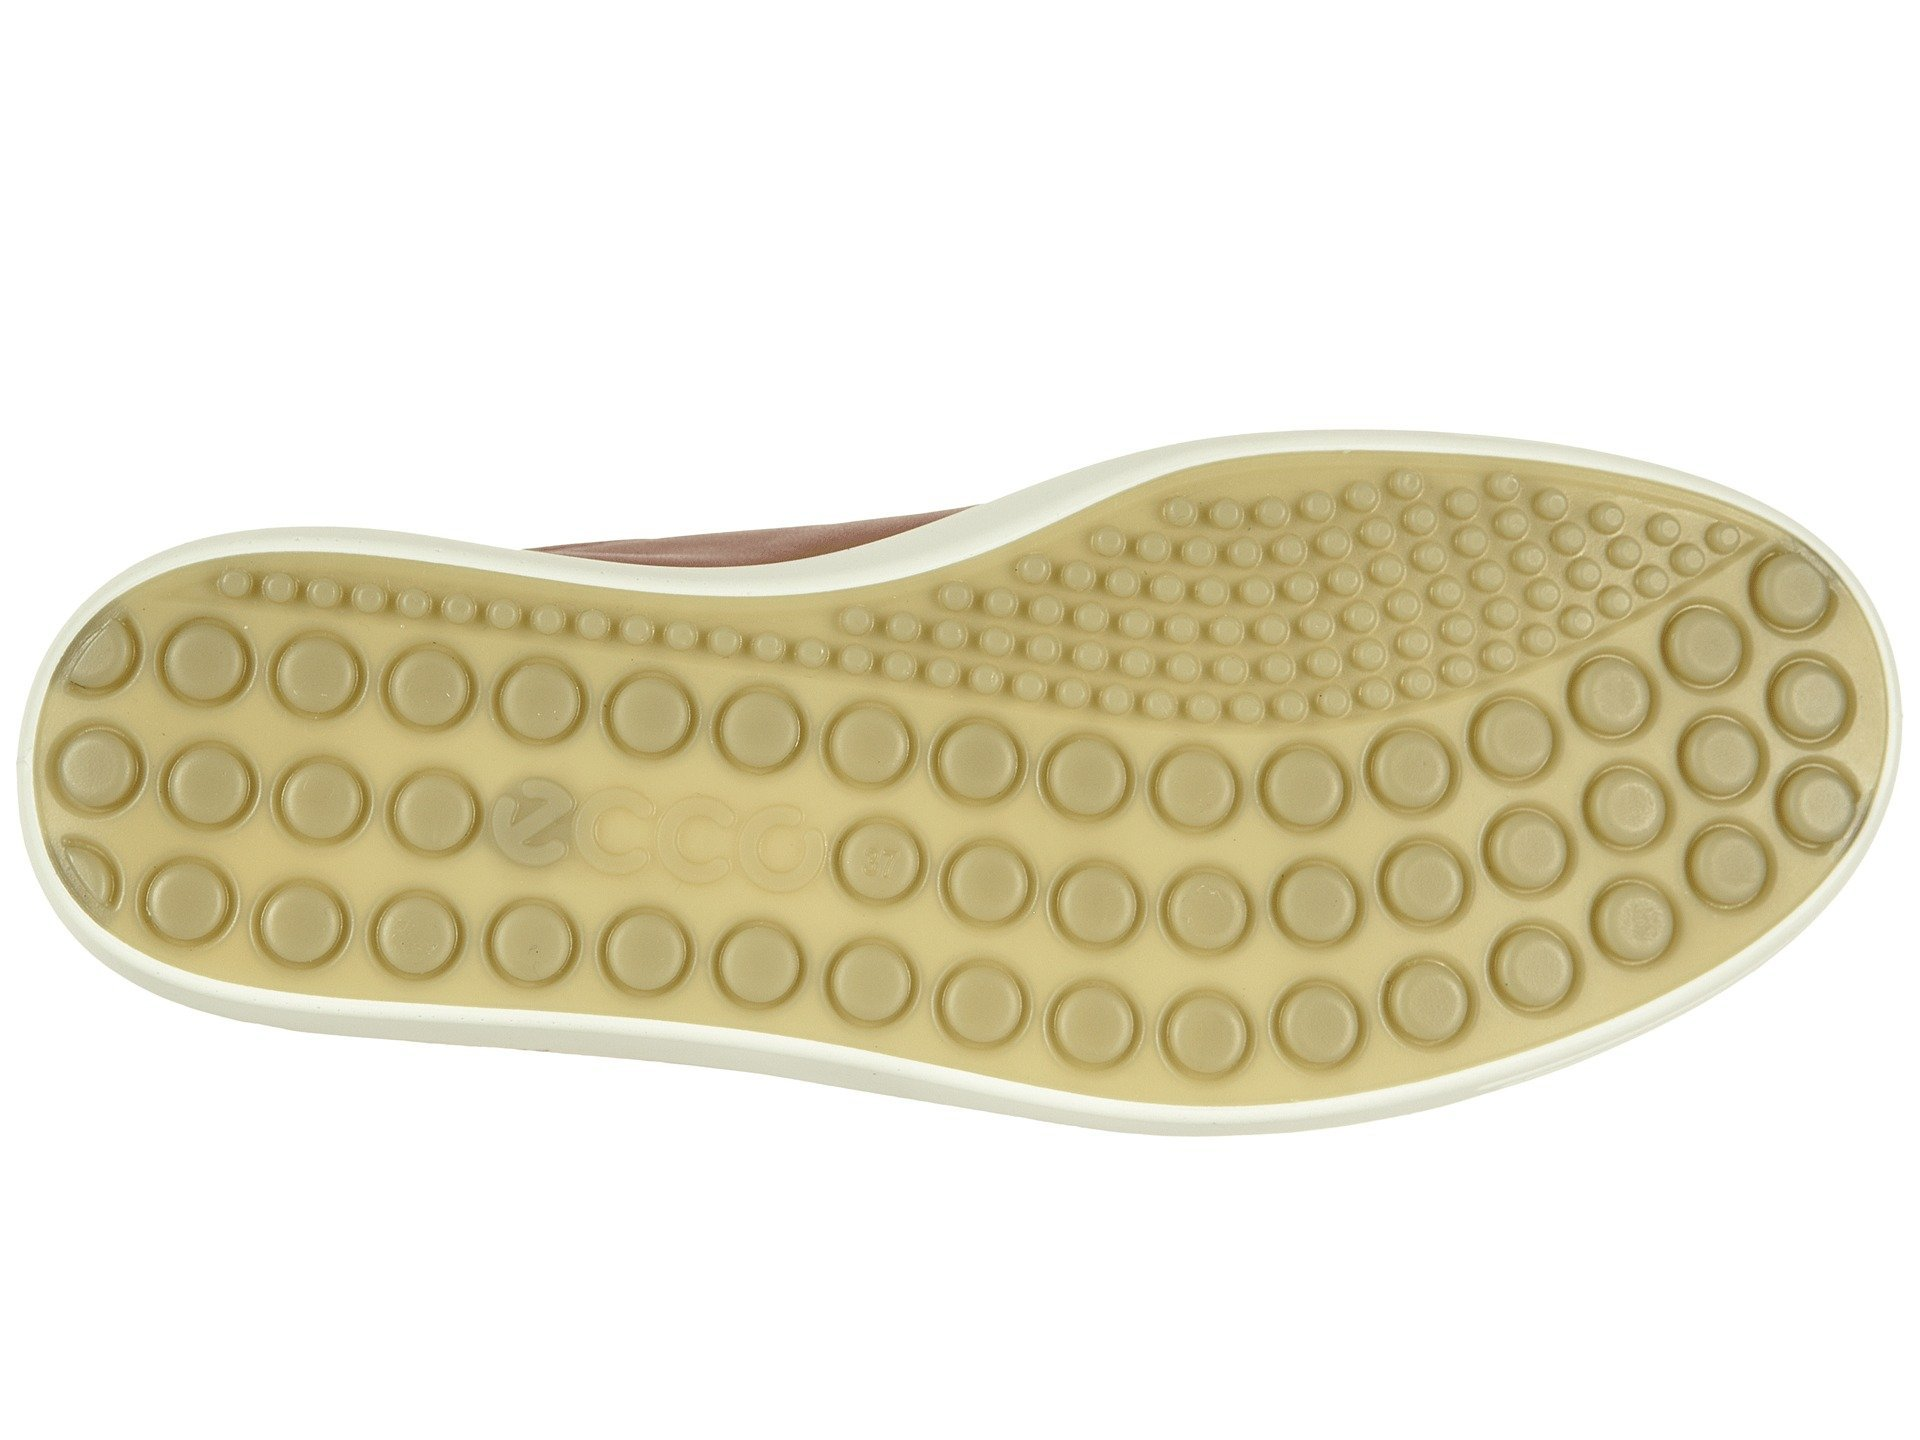circle: (1089, 519, 1746, 1004), (485, 759, 831, 912)
line: (1089, 519, 1746, 1004)
text: (485, 759, 831, 912)
